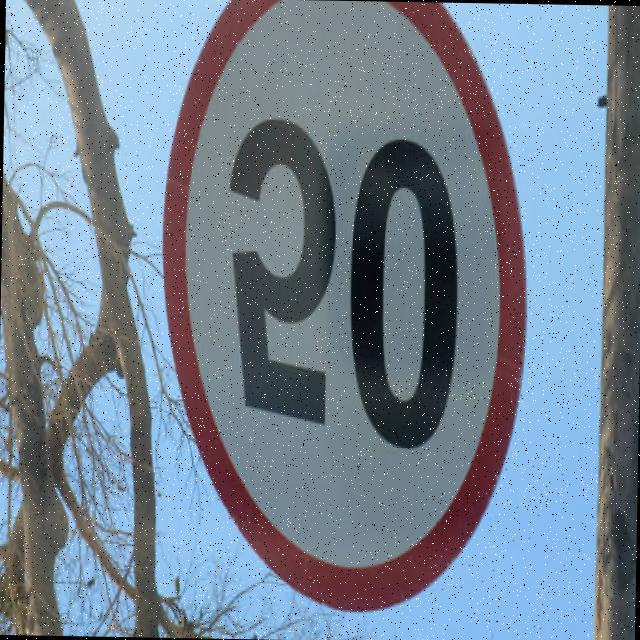speed_limit_50: (153, 0, 543, 624)
